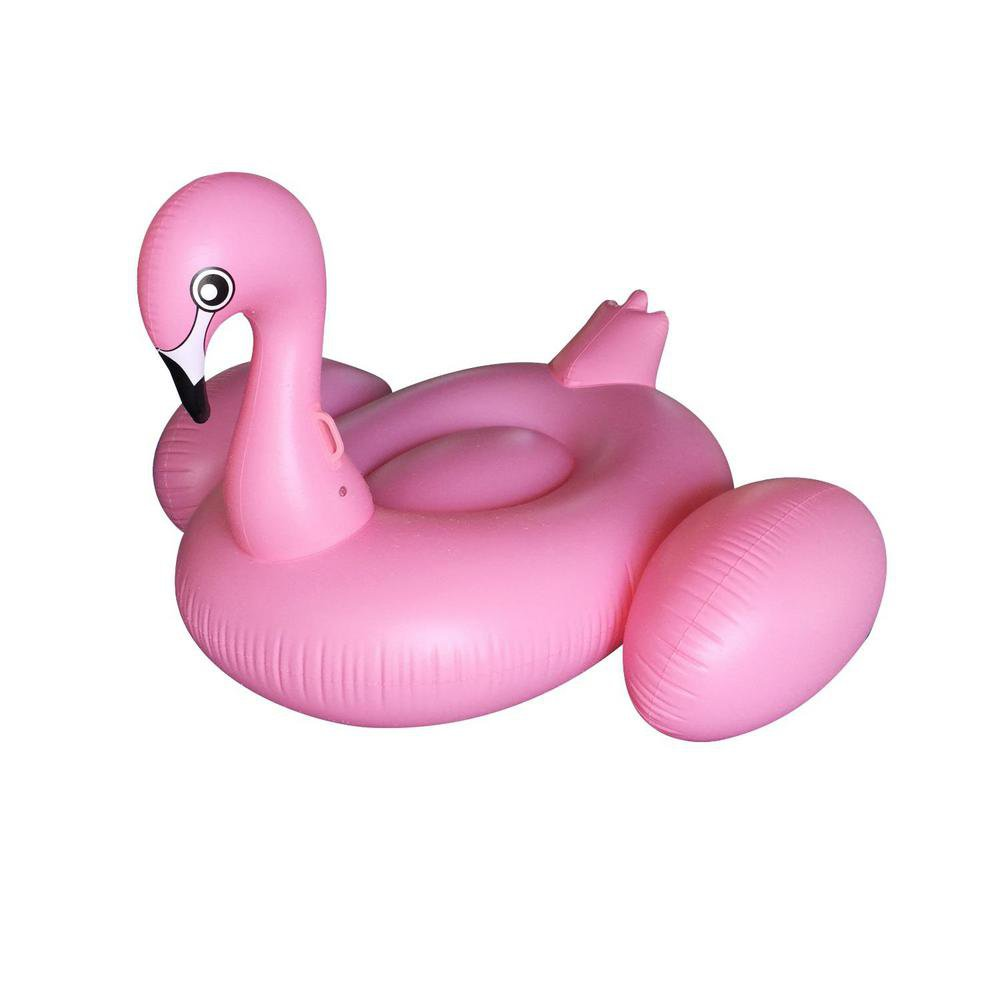Flamingo: (132, 164, 889, 747)
